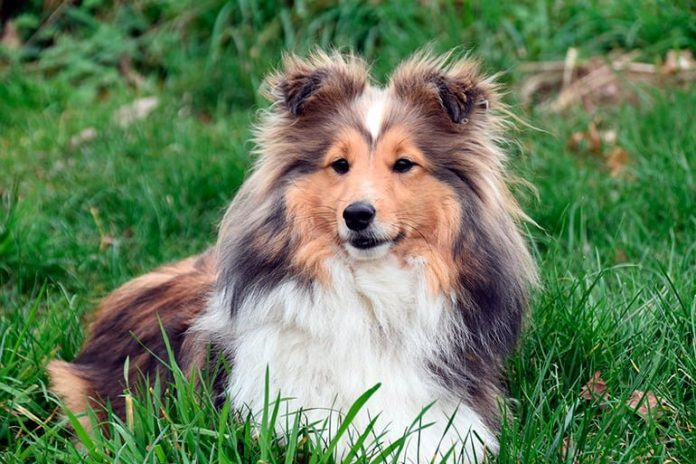dog: (39, 31, 556, 464)
